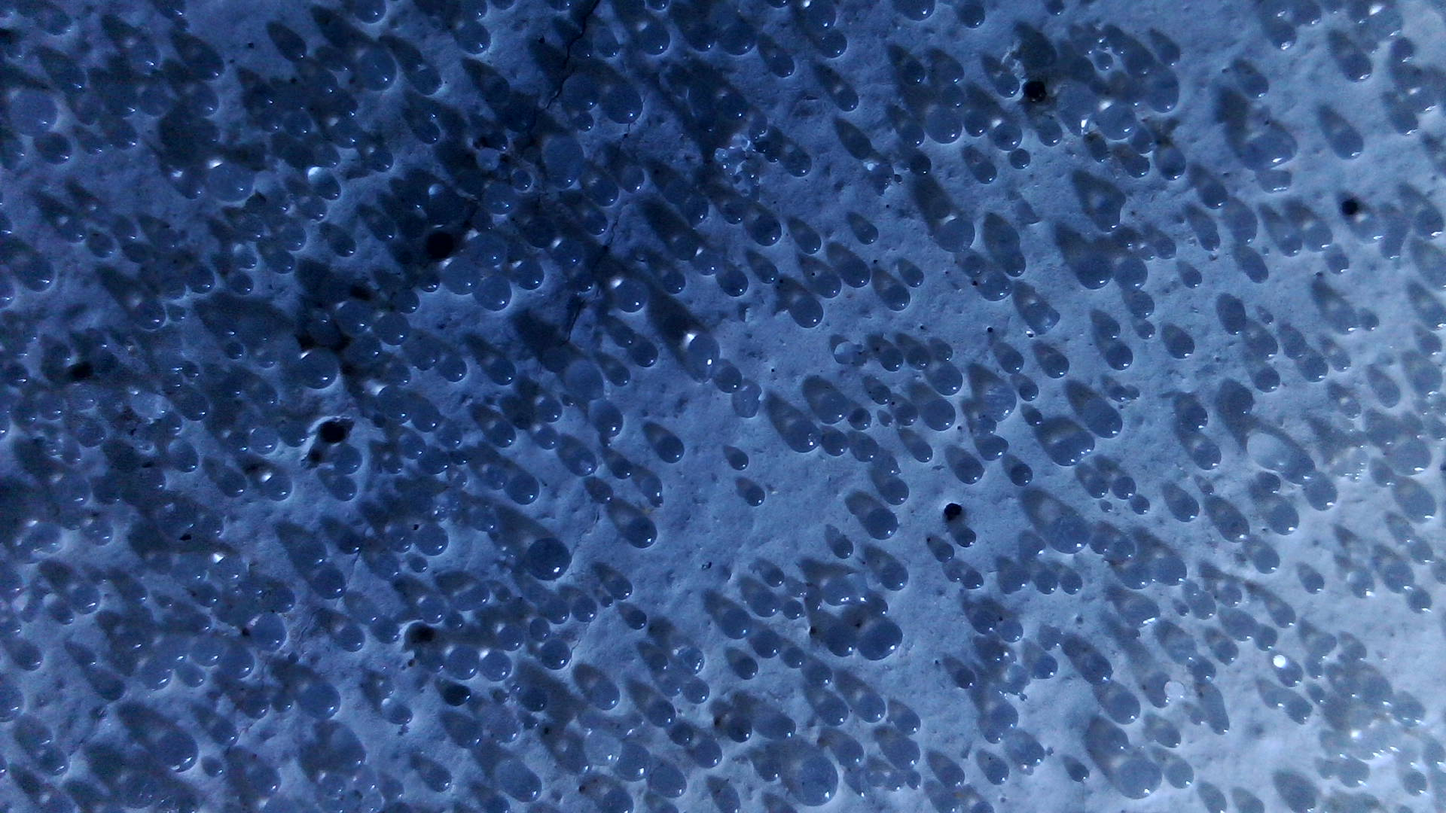GlassBeadSeg: (799, 757, 838, 805), (528, 540, 570, 580), (15, 94, 58, 133), (358, 51, 398, 90), (297, 351, 338, 389), (860, 623, 901, 659), (211, 166, 252, 202), (442, 257, 481, 294), (567, 364, 607, 400), (605, 87, 644, 123), (548, 145, 581, 187), (1051, 517, 1089, 553), (160, 735, 196, 772), (121, 772, 157, 808), (1121, 762, 1158, 797), (475, 277, 512, 311), (563, 78, 601, 111), (926, 110, 962, 144), (337, 300, 374, 333), (304, 684, 340, 717), (938, 220, 973, 253), (612, 280, 648, 312), (1076, 256, 1112, 288), (444, 646, 480, 678), (586, 732, 622, 764), (253, 617, 287, 650), (1393, 443, 1429, 474), (786, 419, 819, 452), (638, 23, 672, 55), (415, 525, 450, 556), (471, 236, 506, 267), (505, 770, 541, 800), (221, 647, 254, 679), (484, 184, 518, 215), (56, 475, 90, 505), (721, 25, 755, 55), (1100, 109, 1134, 139), (865, 509, 898, 539), (380, 313, 410, 346), (458, 25, 491, 55), (922, 401, 956, 430), (792, 297, 823, 328), (23, 260, 54, 291), (507, 474, 539, 504), (513, 260, 545, 290), (1149, 81, 1179, 113), (314, 571, 347, 600), (502, 103, 535, 132), (1117, 258, 1147, 289), (331, 445, 362, 475), (488, 714, 519, 744), (1127, 47, 1157, 78), (1026, 304, 1058, 333), (553, 239, 586, 267), (1334, 130, 1364, 160), (249, 426, 279, 456), (626, 519, 657, 548), (1269, 505, 1298, 536), (193, 52, 224, 81), (1407, 493, 1436, 524), (1413, 365, 1442, 396), (140, 661, 172, 689), (1110, 693, 1139, 723), (588, 178, 618, 207), (417, 595, 447, 624), (334, 741, 365, 769), (617, 751, 648, 779), (481, 652, 512, 680), (74, 385, 105, 413), (130, 43, 161, 71), (694, 739, 722, 769), (1307, 479, 1335, 509), (1287, 452, 1315, 482), (654, 769, 685, 796), (41, 137, 72, 164), (751, 218, 781, 245), (412, 69, 442, 96), (588, 683, 619, 709), (1093, 409, 1121, 437), (36, 394, 64, 422), (569, 449, 598, 476), (137, 303, 166, 330), (332, 120, 361, 147), (985, 392, 1012, 421), (541, 643, 571, 669), (297, 542, 327, 568), (688, 25, 718, 51), (35, 527, 65, 553), (657, 436, 685, 463), (721, 270, 749, 297), (935, 367, 962, 395), (190, 90, 218, 117), (308, 70, 336, 97), (842, 260, 871, 286), (818, 397, 847, 423), (1375, 12, 1404, 38), (1417, 213, 1446, 239), (981, 275, 1011, 300), (252, 769, 279, 796), (74, 587, 101, 614), (188, 267, 215, 294), (828, 629, 855, 656), (956, 458, 984, 484), (489, 359, 517, 385), (263, 474, 291, 500), (1343, 56, 1371, 82), (597, 409, 623, 437), (193, 639, 222, 664), (805, 5, 834, 30), (892, 740, 919, 766), (338, 625, 365, 651), (725, 611, 751, 638), (178, 172, 204, 199), (444, 682, 470, 709), (1133, 598, 1160, 624), (861, 695, 886, 723), (819, 33, 847, 58), (108, 92, 136, 117), (141, 90, 169, 115), (354, 339, 383, 363), (883, 285, 909, 311), (822, 700, 848, 726), (633, 342, 659, 368), (455, 722, 481, 748), (1159, 560, 1185, 586), (1053, 442, 1079, 468), (45, 12, 73, 36), (217, 559, 246, 582), (356, 0, 385, 23), (18, 645, 44, 670), (332, 477, 358, 502), (882, 565, 908, 590), (716, 368, 742, 393), (786, 152, 811, 178), (696, 250, 722, 275), (752, 591, 777, 617), (221, 473, 247, 498), (754, 632, 780, 657), (1085, 657, 1110, 683), (768, 715, 794, 740), (399, 434, 425, 459), (482, 464, 508, 489), (413, 343, 439, 368), (825, 580, 851, 605), (441, 358, 468, 382), (1196, 444, 1220, 471), (111, 125, 139, 148), (59, 69, 87, 92), (212, 721, 237, 746), (815, 272, 840, 297), (770, 54, 795, 79), (1386, 567, 1411, 592), (185, 396, 210, 421), (1161, 155, 1186, 180), (474, 507, 499, 532), (283, 422, 308, 447), (1020, 741, 1045, 766), (1292, 788, 1317, 813), (1333, 312, 1358, 337), (723, 95, 748, 120), (537, 398, 563, 422), (1254, 547, 1278, 573), (490, 423, 516, 447), (87, 521, 113, 545), (1251, 336, 1277, 360), (419, 452, 445, 476), (0, 574, 26, 598), (1231, 614, 1255, 640), (1221, 310, 1247, 334), (59, 220, 87, 242), (839, 741, 863, 766), (1107, 346, 1132, 370), (883, 480, 908, 504), (662, 271, 687, 295), (650, 702, 675, 726), (41, 751, 66, 775), (1287, 699, 1312, 723), (1224, 516, 1248, 541), (981, 437, 1006, 461), (1400, 702, 1425, 726), (1407, 590, 1432, 614), (1350, 573, 1375, 597), (1377, 383, 1401, 408), (1229, 391, 1254, 415), (1200, 186, 1226, 209), (427, 768, 453, 791), (993, 125, 1019, 148), (1170, 336, 1194, 360), (807, 663, 831, 687), (244, 693, 268, 717), (254, 385, 278, 409), (440, 425, 464, 449), (993, 705, 1017, 729), (996, 75, 1020, 99), (1271, 26, 1295, 50), (1174, 498, 1199, 521), (1168, 764, 1193, 787), (273, 589, 296, 614), (416, 408, 441, 431), (1367, 681, 1390, 706), (608, 790, 633, 813), (567, 752, 592, 775), (1095, 209, 1120, 232), (1124, 156, 1150, 178), (1117, 229, 1143, 251), (101, 678, 125, 701), (1132, 294, 1155, 318), (1307, 226, 1330, 250), (499, 626, 523, 649), (679, 648, 703, 671), (48, 346, 72, 369), (230, 273, 255, 295), (270, 251, 295, 273), (81, 424, 106, 446), (375, 557, 400, 579), (389, 400, 414, 422), (836, 90, 859, 113), (573, 598, 596, 621), (961, 5, 984, 28), (1303, 358, 1327, 380), (1256, 370, 1280, 392), (975, 162, 999, 184), (590, 480, 612, 504), (1185, 407, 1207, 431), (1246, 76, 1268, 100), (175, 450, 199, 472), (417, 123, 441, 145), (1357, 218, 1379, 242), (377, 620, 399, 644), (676, 236, 698, 260), (143, 468, 165, 492), (155, 230, 179, 252), (271, 690, 295, 712), (1129, 567, 1153, 589), (535, 428, 560, 449), (940, 766, 965, 787), (386, 365, 412, 385), (1046, 354, 1068, 377), (1010, 464, 1033, 486), (735, 657, 758, 679), (798, 231, 820, 254), (52, 601, 75, 623), (584, 215, 607, 237), (1034, 656, 1057, 678), (525, 689, 548, 711), (338, 532, 361, 554), (1394, 113, 1417, 135), (241, 219, 264, 241), (282, 228, 305, 250), (252, 86, 275, 108), (259, 109, 282, 131), (285, 91, 308, 113), (284, 39, 307, 61), (1113, 540, 1136, 562), (1114, 477, 1137, 499), (1073, 432, 1096, 454), (388, 531, 411, 553), (92, 236, 116, 257), (114, 220, 138, 241), (289, 116, 313, 137), (898, 711, 920, 733), (728, 720, 750, 742), (825, 433, 847, 455), (1004, 254, 1026, 276), (614, 326, 636, 348), (1039, 123, 1061, 145), (975, 612, 997, 634), (201, 516, 223, 538), (121, 630, 143, 652), (356, 772, 378, 794), (1003, 620, 1025, 642), (1006, 568, 1028, 590), (188, 612, 210, 634), (198, 585, 220, 607), (688, 201, 709, 224), (235, 248, 258, 269), (1036, 571, 1057, 594), (1344, 764, 1365, 787), (622, 170, 645, 191), (266, 195, 289, 216), (572, 275, 596, 295), (686, 682, 708, 703), (1160, 727, 1181, 749), (370, 151, 392, 172), (391, 705, 413, 726), (321, 775, 343, 796), (358, 604, 380, 625), (548, 603, 570, 624), (909, 346, 931, 367), (964, 255, 986, 276), (903, 64, 925, 85), (1072, 56, 1094, 77), (1124, 86, 1146, 107), (1160, 44, 1181, 66), (1301, 6, 1323, 27), (1416, 94, 1438, 115), (1348, 4, 1369, 26), (856, 442, 879, 462), (1107, 731, 1127, 754), (966, 113, 986, 136), (1002, 352, 1023, 373), (334, 236, 355, 257), (911, 155, 932, 176), (530, 620, 551, 641), (1280, 666, 1301, 687), (375, 220, 396, 241), (336, 97, 357, 118), (398, 292, 419, 313), (403, 218, 424, 239), (599, 37, 620, 58), (4, 141, 25, 162), (882, 349, 903, 370), (851, 409, 872, 430), (904, 127, 925, 148), (942, 61, 963, 82), (943, 86, 964, 107), (851, 138, 872, 159), (873, 165, 894, 186), (1393, 41, 1414, 62), (1402, 74, 1423, 95), (1175, 642, 1196, 663), (163, 415, 183, 437), (1281, 234, 1301, 256), (1236, 224, 1256, 246), (988, 763, 1008, 784), (857, 224, 877, 245), (673, 725, 694, 745), (783, 648, 804, 668), (963, 568, 983, 589), (1194, 661, 1214, 682), (305, 200, 326, 220), (320, 180, 341, 200), (318, 149, 339, 169), (418, 272, 439, 292), (402, 190, 423, 210), (511, 170, 532, 190), (573, 112, 594, 132), (428, 209, 449, 229), (573, 38, 594, 58), (466, 0, 487, 20), (198, 124, 219, 144), (87, 331, 108, 351), (7, 367, 28, 387), (957, 527, 977, 548), (488, 132, 509, 152), (416, 100, 437, 120), (165, 0, 186, 20), (613, 578, 632, 600), (223, 377, 242, 399), (611, 366, 631, 386), (628, 609, 648, 629), (896, 406, 916, 426), (721, 793, 741, 813), (612, 460, 633, 479), (913, 441, 932, 462), (834, 538, 853, 559), (956, 669, 975, 690), (226, 340, 245, 361), (1258, 629, 1277, 650), (1374, 466, 1393, 487), (643, 486, 664, 505), (259, 346, 278, 367), (85, 134, 104, 155), (82, 195, 101, 216), (229, 433, 248, 454), (1063, 573, 1081, 595), (760, 761, 779, 781), (1305, 574, 1324, 594), (1218, 642, 1237, 662), (1248, 264, 1268, 283), (650, 653, 670, 672), (1329, 254, 1348, 274), (1427, 748, 1446, 768), (1332, 353, 1351, 373), (1263, 474, 1282, 494), (1421, 336, 1440, 356), (1376, 428, 1395, 448), (1361, 312, 1380, 332), (1383, 241, 1402, 261), (1028, 536, 1045, 558), (1408, 775, 1427, 794), (1156, 239, 1175, 258), (1414, 545, 1433, 564), (1396, 525, 1415, 544), (1343, 400, 1362, 419), (1287, 339, 1306, 358), (1427, 312, 1446, 331), (746, 486, 764, 506), (1275, 608, 1293, 628), (759, 264, 777, 284), (905, 266, 923, 286), (725, 204, 743, 224), (731, 450, 748, 471), (1183, 269, 1201, 288), (1195, 599, 1214, 617), (1149, 689, 1168, 707), (1224, 587, 1241, 607), (1112, 384, 1129, 404), (1103, 320, 1120, 340), (785, 601, 803, 619), (1264, 690, 1282, 708), (386, 781, 404, 799), (169, 647, 187, 665), (767, 568, 785, 586), (983, 726, 1001, 744), (880, 458, 898, 476), (1025, 409, 1043, 427), (186, 565, 204, 583), (6, 42, 24, 60), (1310, 687, 1327, 706), (870, 596, 887, 615), (1090, 479, 1107, 498), (1020, 383, 1038, 400), (168, 306, 186, 323), (167, 374, 184, 392), (42, 438, 59, 456), (65, 448, 83, 465), (91, 569, 108, 587), (131, 586, 148, 604), (187, 670, 205, 687), (34, 730, 52, 747), (377, 679, 394, 697), (447, 612, 464, 630), (666, 679, 683, 697), (887, 773, 904, 791), (985, 646, 1002, 664), (1190, 708, 1207, 726), (874, 386, 891, 404), (936, 343, 953, 361), (472, 588, 490, 605), (989, 681, 1006, 699), (334, 55, 351, 73), (1071, 764, 1088, 781), (937, 544, 954, 561), (1307, 660, 1324, 677), (184, 363, 201, 380), (167, 356, 184, 373), (219, 320, 236, 337), (12, 342, 29, 359), (22, 325, 39, 342), (20, 408, 37, 425), (104, 487, 121, 504), (5, 619, 22, 636), (81, 651, 98, 668), (494, 587, 511, 604), (905, 770, 922, 787), (868, 770, 885, 787), (427, 655, 444, 672), (387, 457, 404, 474), (451, 471, 468, 488), (453, 447, 470, 464), (248, 578, 265, 595), (1012, 152, 1030, 168), (1133, 498, 1149, 515), (1094, 29, 1111, 45), (1114, 40, 1131, 56), (790, 582, 807, 598), (852, 588, 869, 604), (1090, 538, 1107, 554), (1048, 0, 1065, 16), (1203, 236, 1219, 252), (1321, 764, 1337, 780), (1096, 55, 1112, 71), (1079, 40, 1095, 56), (1314, 643, 1330, 659), (1090, 147, 1106, 163), (1363, 38, 1379, 54), (411, 557, 428, 572), (1214, 717, 1229, 733), (1139, 323, 1154, 339), (1352, 646, 1367, 662), (1400, 754, 1416, 769), (1384, 737, 1399, 753), (1362, 744, 1378, 759), (206, 762, 222, 776), (1101, 502, 1113, 513), (1202, 485, 1214, 496), (949, 570, 961, 581), (1129, 630, 1141, 641), (1338, 466, 1350, 477), (1354, 456, 1366, 467), (1419, 405, 1431, 416), (1262, 313, 1274, 324), (881, 415, 893, 426), (1049, 636, 1061, 647), (855, 785, 867, 796), (1187, 586, 1199, 597), (525, 717, 537, 728), (885, 802, 897, 813), (161, 596, 173, 607), (768, 151, 780, 162), (755, 142, 767, 153), (754, 122, 766, 133), (703, 122, 715, 133), (747, 130, 759, 141), (1349, 471, 1361, 482), (1410, 428, 1422, 439), (1434, 431, 1446, 442), (1178, 605, 1190, 615), (1354, 439, 1366, 449), (496, 692, 508, 702), (744, 169, 756, 179), (717, 159, 729, 169), (894, 175, 903, 184), (1020, 695, 1028, 701), (1047, 749, 1055, 755), (1014, 689, 1021, 695)
